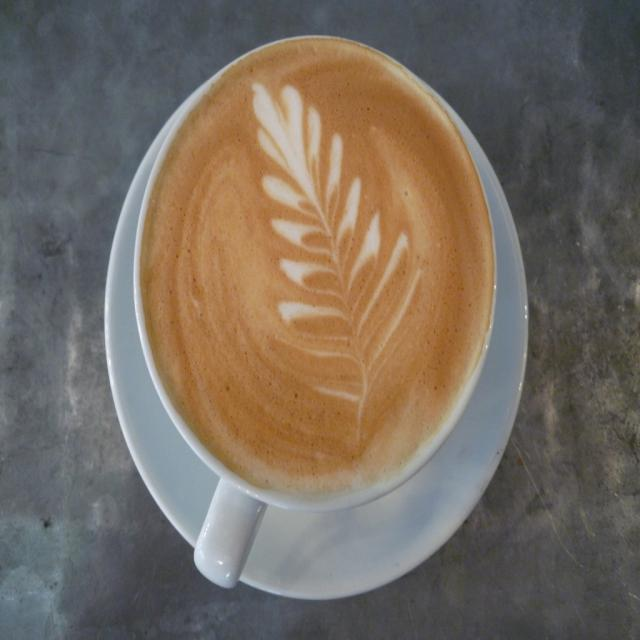Coffee: (133, 34, 499, 508)
